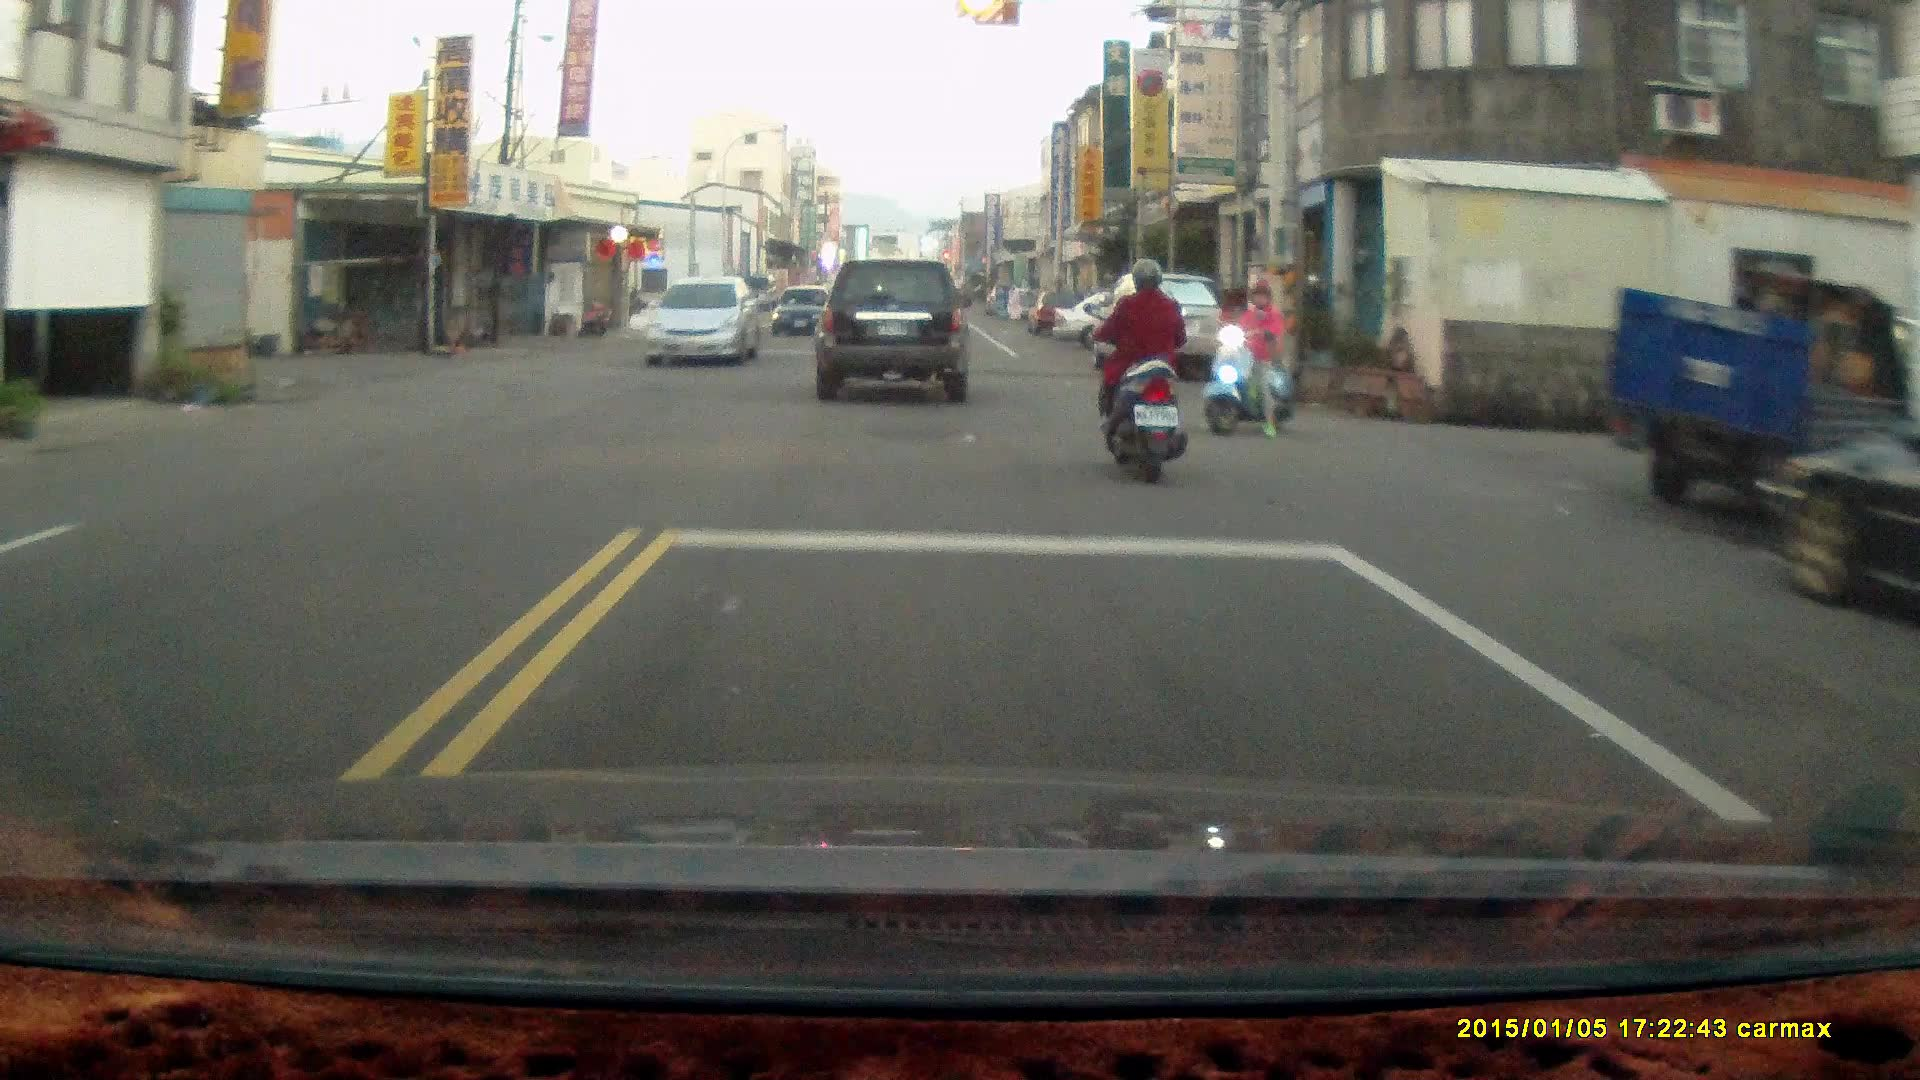rider: (1098, 253, 1186, 487), (1203, 269, 1296, 436)
vehicle: (1598, 252, 1920, 533), (1771, 363, 1920, 630), (814, 253, 979, 403), (1097, 272, 1236, 379), (639, 277, 767, 366)
